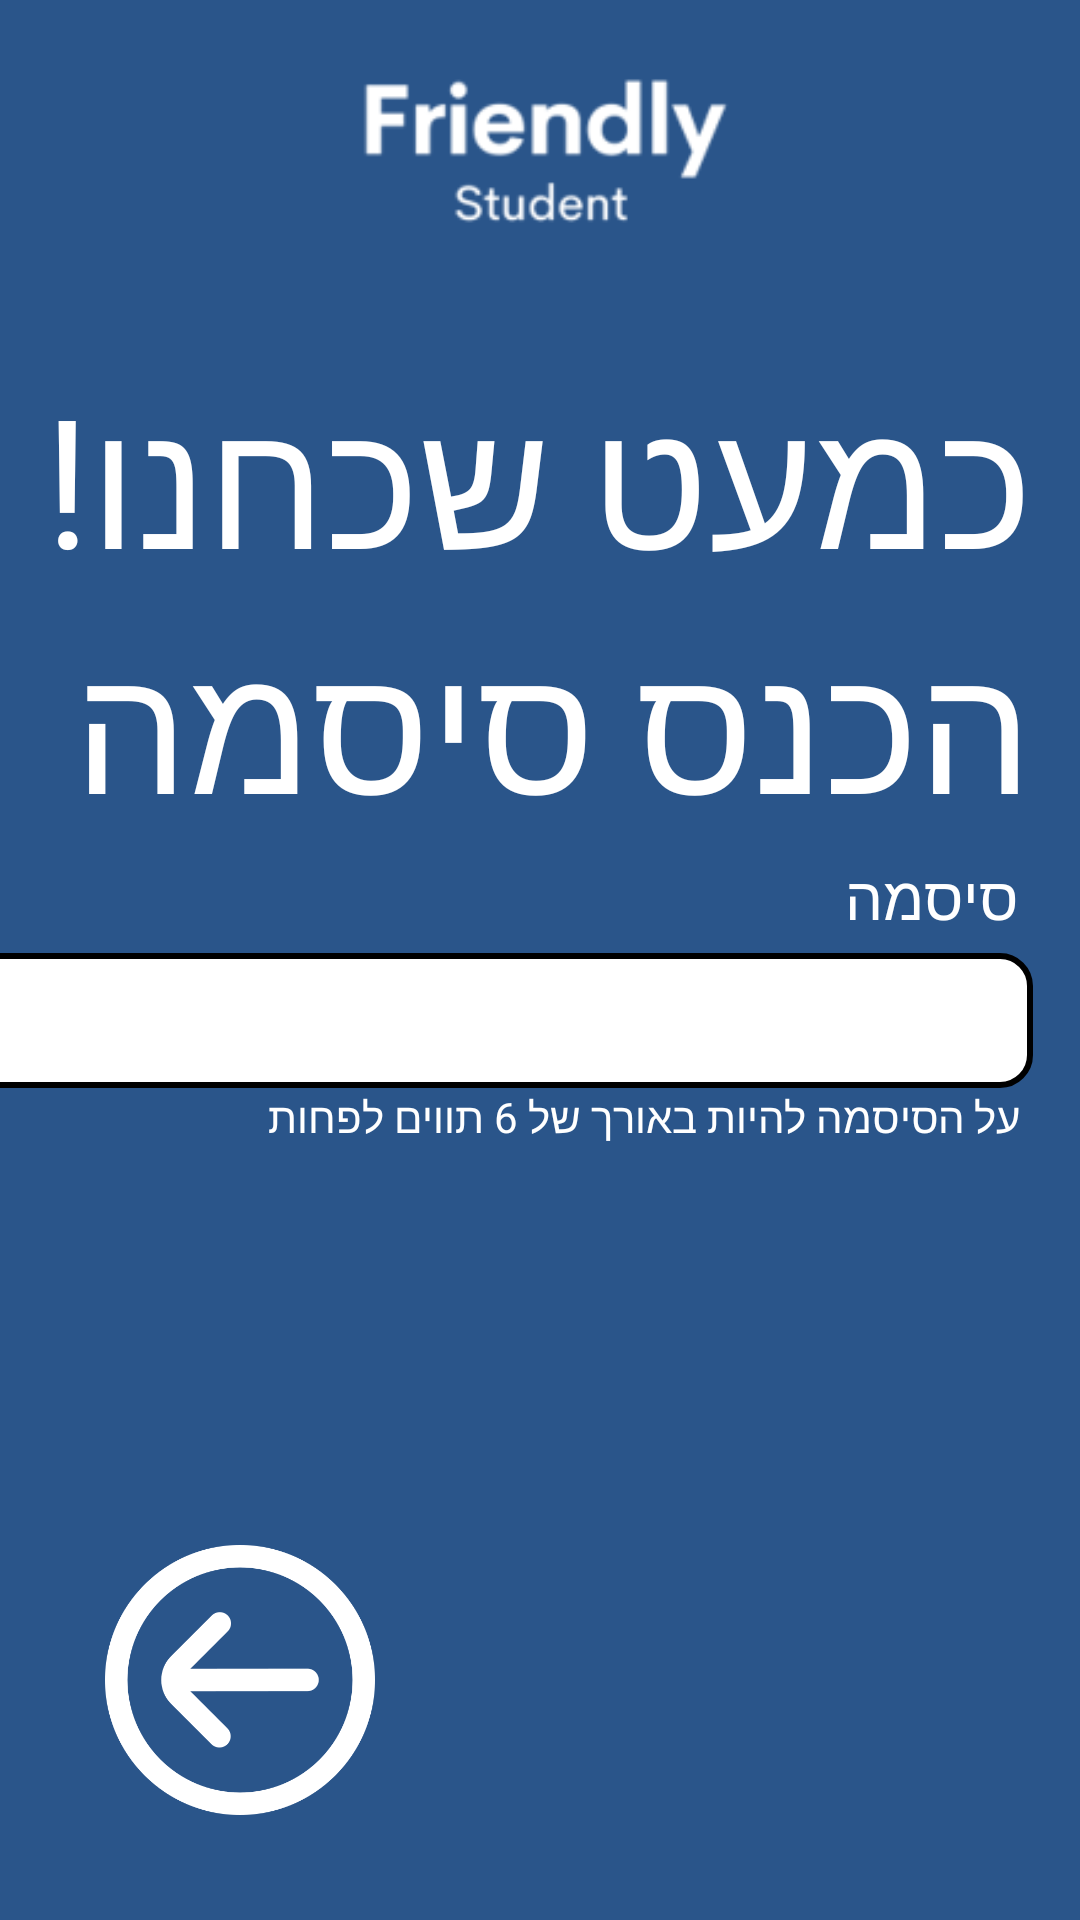

Where icons sit on this 1080×1920 app screen, as (x1, y1, x2, y2):
circulararrow: (105, 1545, 375, 1815)
